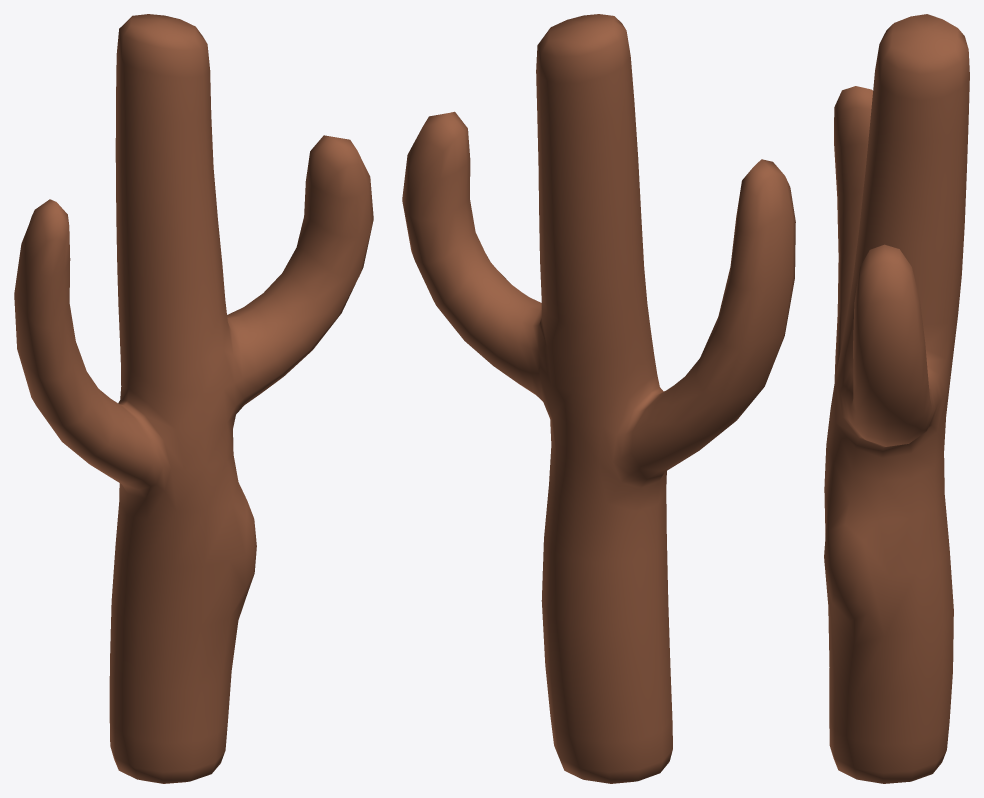
File: Tree_Btm_D_01.fbx
3 renders of one model, left to right at view 1: azimuth 30°, elevation 25°; view 2: azimuth 150°, elevation 25°; view 3: azimuth 270°, elevation 25°, orthographic. The views are drawn at different scales.
Parts seen in each view (by area): view 1: Tree_Btm_D_01_LOD0; view 2: Tree_Btm_D_01_LOD0; view 3: Tree_Btm_D_01_LOD0.
Boxes of the visible parts, bbox=[...] form: Tree_Btm_D_01_LOD0: bbox=[14, 14, 373, 783]; Tree_Btm_D_01_LOD0: bbox=[402, 14, 795, 783]; Tree_Btm_D_01_LOD0: bbox=[824, 14, 969, 783].
Size of what is drawn, in the model's own units: 358 by 701 by 125.
